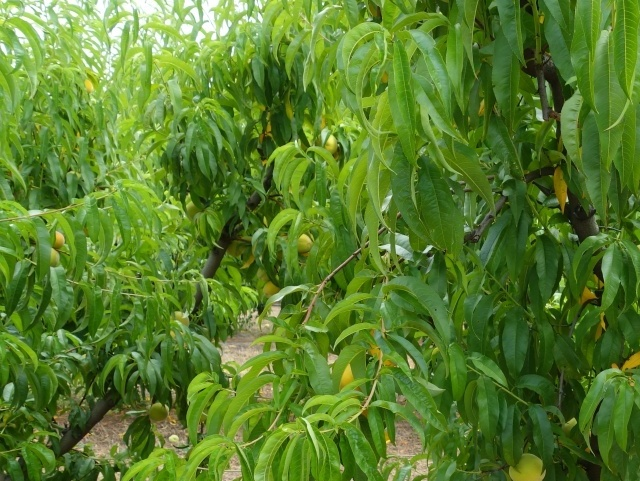peach: (292, 232, 318, 258), (36, 245, 64, 268), (45, 228, 70, 253), (257, 278, 283, 301), (146, 400, 170, 424), (324, 134, 341, 157)
